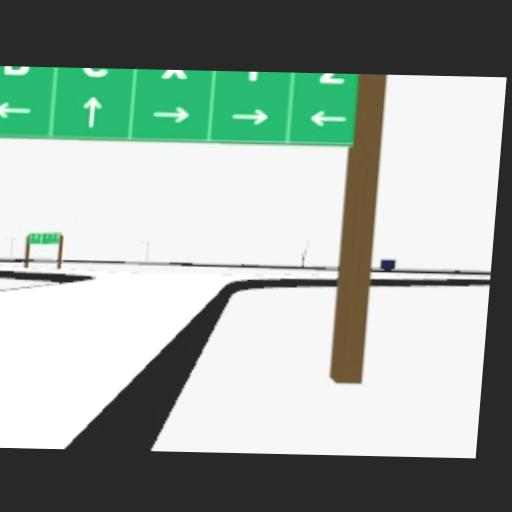B: (2, 65, 29, 74)
C: (81, 66, 108, 76)
Left: (308, 109, 348, 126), (0, 100, 33, 117), (28, 231, 39, 241), (42, 231, 52, 242)
Right: (230, 107, 270, 125), (151, 105, 191, 123)
Straight: (81, 95, 103, 126)
X: (160, 68, 187, 78)
Y: (239, 70, 268, 80)
Z: (317, 72, 345, 83)
